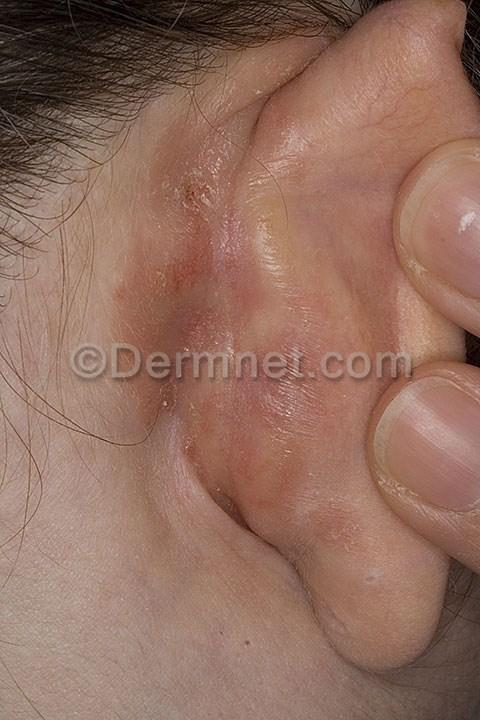Eczema: (89, 298, 264, 387), (182, 396, 315, 503), (159, 156, 236, 222), (148, 247, 224, 303)
